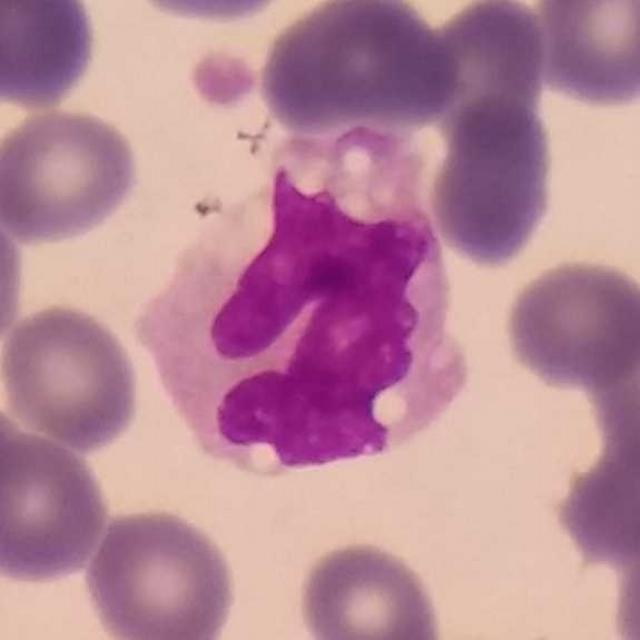Monocyte: (137, 122, 472, 489)
Platelets: (185, 41, 265, 116)
RBC: (254, 0, 462, 138), (424, 91, 560, 272), (0, 298, 145, 454), (79, 502, 242, 640), (0, 104, 145, 247), (498, 253, 640, 393), (412, 0, 552, 141), (0, 422, 114, 588), (294, 536, 448, 640), (550, 425, 640, 576), (526, 0, 639, 112), (0, 0, 102, 111), (115, 0, 307, 29), (0, 197, 29, 363), (603, 512, 640, 640), (0, 0, 25, 131)
